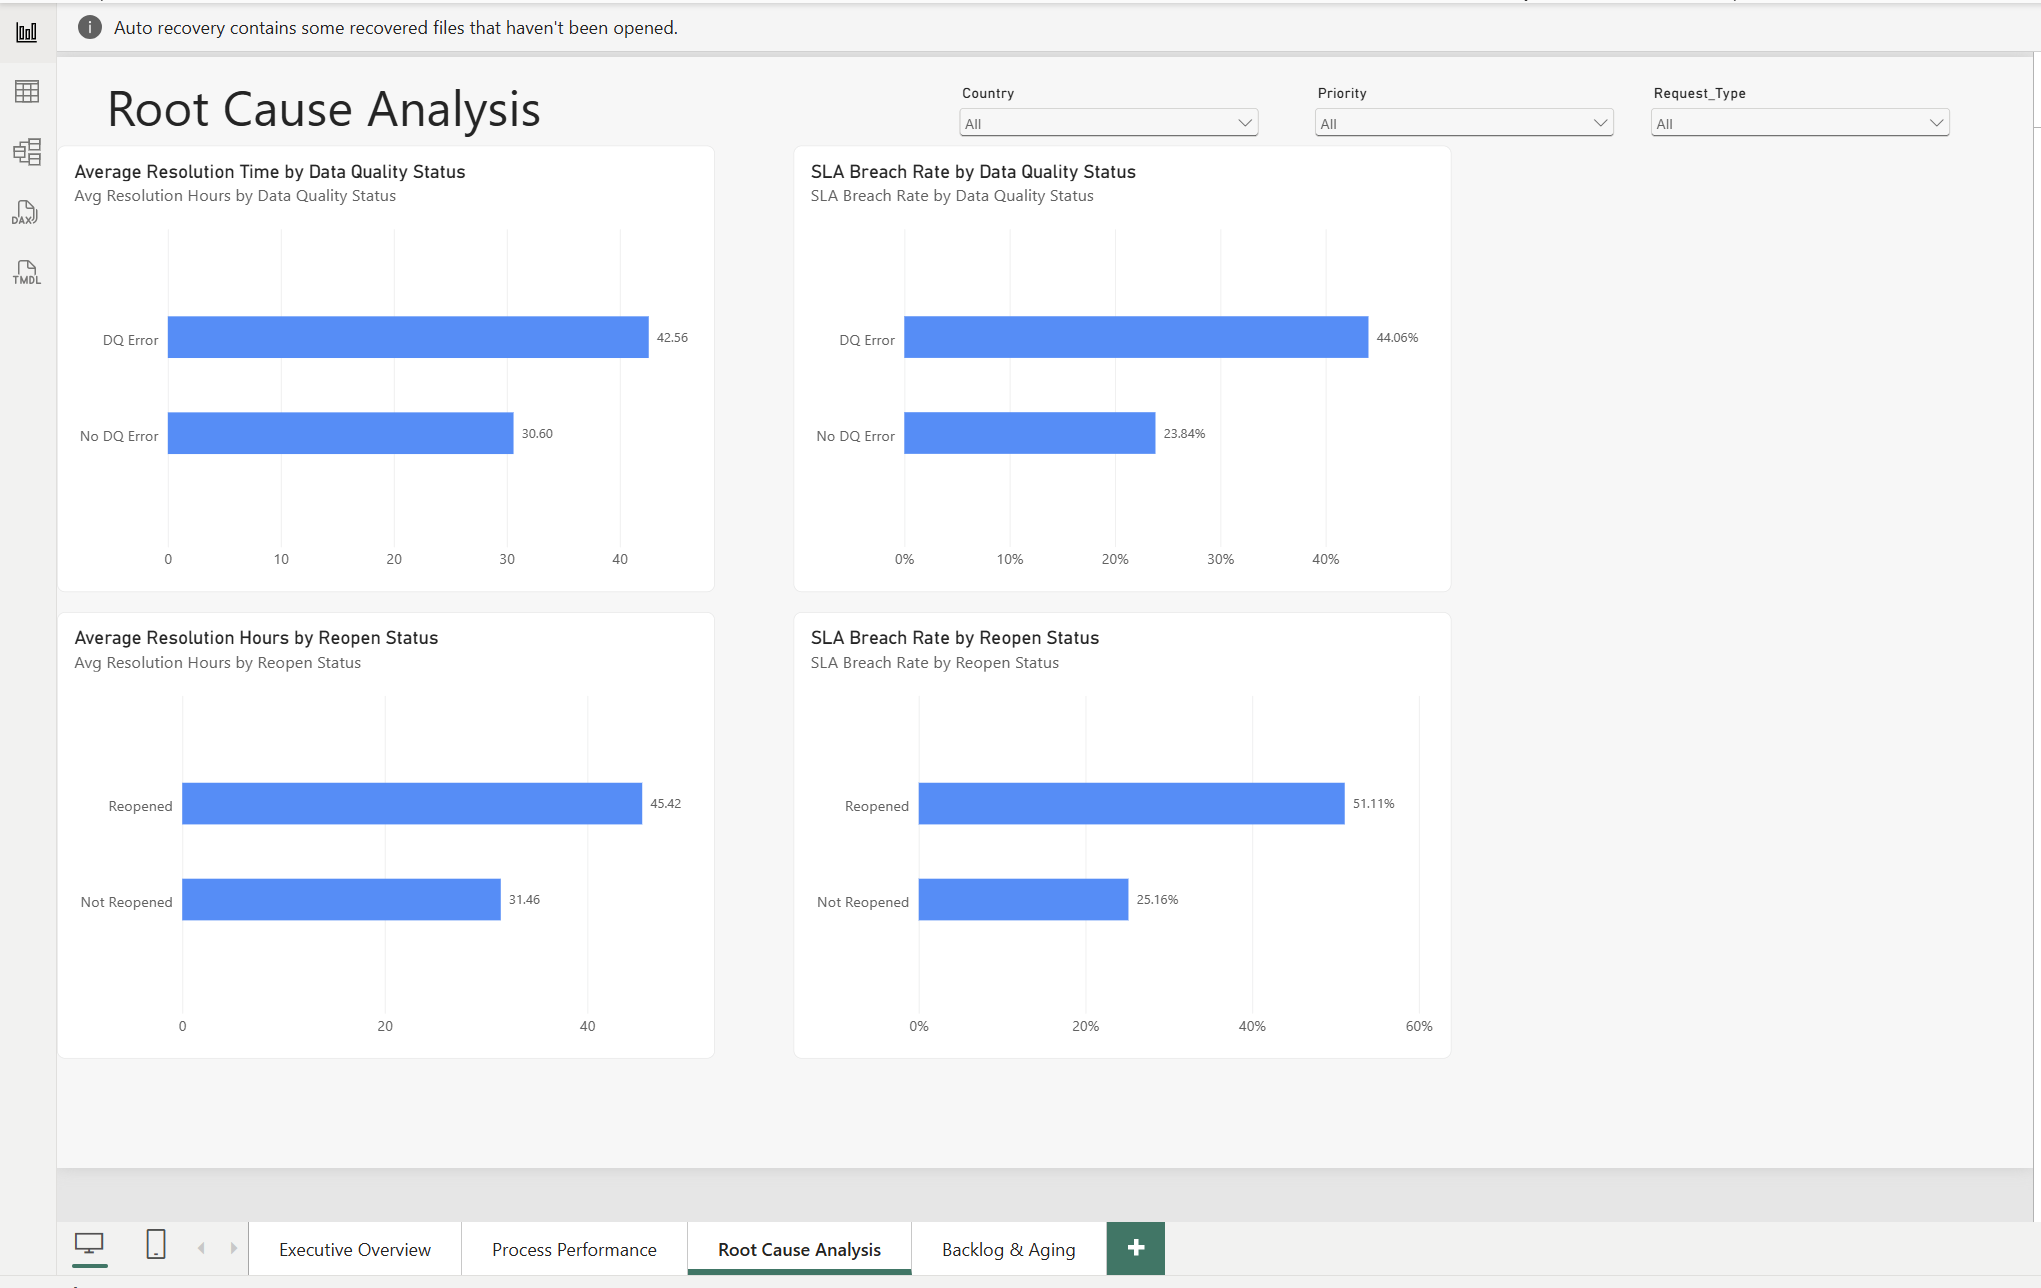

Layout of this report page (visuals, bound fields, positions):
{"tool":"powerbi","page":{"name":"Root Cause Analysis","canvas":[1920,1080],"ordinal":2},"visuals":[{"type":"clusteredBarChart","title":"Average Resolution Time by Data Quality Status ","fields":{"Category":["BusinessRequests.Data Quality Status"],"Y":["BusinessRequests.Avg Resolution Hours"]},"box":[0,85.6,639.3,434.3],"z":0},{"type":"clusteredBarChart","title":"SLA Breach Rate by Data Quality Status","fields":{"Category":["BusinessRequests.Data Quality Status"],"Y":["BusinessRequests.SLA Breach Rate"]},"box":[715,86.2,639,434],"z":1},{"type":"clusteredBarChart","title":"Average Resolution Hours by Reopen Status","fields":{"Category":["BusinessRequests.Reopen Status"],"Y":["BusinessRequests.Avg Resolution Hours"]},"box":[0,539.3,639,434],"z":2},{"type":"clusteredBarChart","title":"SLA Breach Rate by Reopen Status","fields":{"Category":["BusinessRequests.Reopen Status"],"Y":["BusinessRequests.SLA Breach Rate"]},"box":[715,539,639,434],"z":3},{"type":"textbox","box":[48.3,14.3,750.2,82.4],"z":4},{"type":"slicer","fields":{"Values":["BusinessRequests.Country"]},"box":[872,26.9,300.8,69.8],"z":5},{"type":"slicer","fields":{"Values":["BusinessRequests.Priority"]},"box":[1217.5,26.9,300.8,69.8],"z":6},{"type":"slicer","fields":{"Values":["BusinessRequests.Request_Type"]},"box":[1543.4,26.9,300.8,69.8],"z":7}]}

Visuals, with their boxes on the page's 1920x1080 design canvas (x1, y1, x2, y2). These are canvas units, not pixel positions in the 2041x1288 screenshot, which may show the page scaled, cropped or inside an application window:
"Average Resolution Time by Data Quality Status " clusteredBarChart: <region>0, 86, 639, 520</region>
"SLA Breach Rate by Data Quality Status" clusteredBarChart: <region>715, 86, 1354, 520</region>
"Average Resolution Hours by Reopen Status" clusteredBarChart: <region>0, 539, 639, 973</region>
"SLA Breach Rate by Reopen Status" clusteredBarChart: <region>715, 539, 1354, 973</region>
textbox: <region>48, 14, 798, 97</region>
slicer - BusinessRequests.Country: <region>872, 27, 1173, 97</region>
slicer - BusinessRequests.Priority: <region>1218, 27, 1518, 97</region>
slicer - BusinessRequests.Request_Type: <region>1543, 27, 1844, 97</region>
